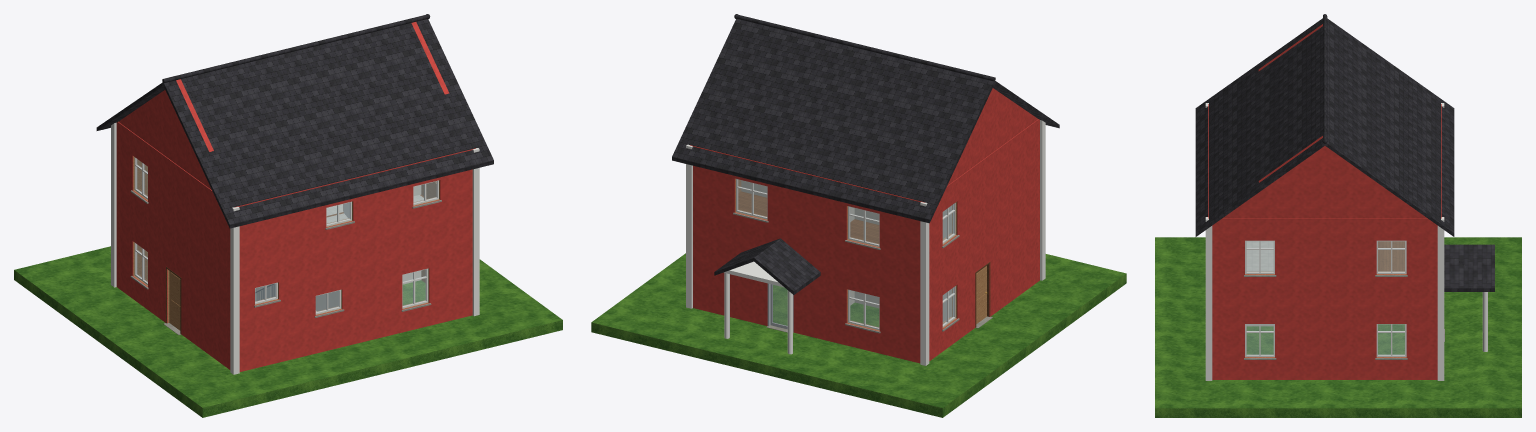
Rendered from b_swedish_red_cottage.gltf.
3 renders of one model, left to right at view 1: azimuth 30°, elevation 25°; view 2: azimuth 150°, elevation 25°; view 3: azimuth 270°, elevation 25°, orthographic. The views are drawn at different scales.
Parts seen in each view (by area): view 1: S_swedish_red_cottage, D_swedish_red_cottage_F1_E1_Door0; view 2: S_swedish_red_cottage, D_swedish_red_cottage_F1_S1_Door0, D_swedish_red_cottage_F1_E1_Door0; view 3: S_swedish_red_cottage.
Part boxes in pixels (x1,y1,x2,y2): S_swedish_red_cottage: [14, 14, 562, 417]; D_swedish_red_cottage_F1_E1_Door0: [169, 271, 180, 330]; S_swedish_red_cottage: [591, 14, 1126, 417]; D_swedish_red_cottage_F1_S1_Door0: [770, 284, 787, 329]; D_swedish_red_cottage_F1_E1_Door0: [976, 266, 986, 323]; S_swedish_red_cottage: [1155, 14, 1521, 417].
Bounding box in the file's own units: 15 × 10.48 × 13.6.
20 materials, 12 textured.
